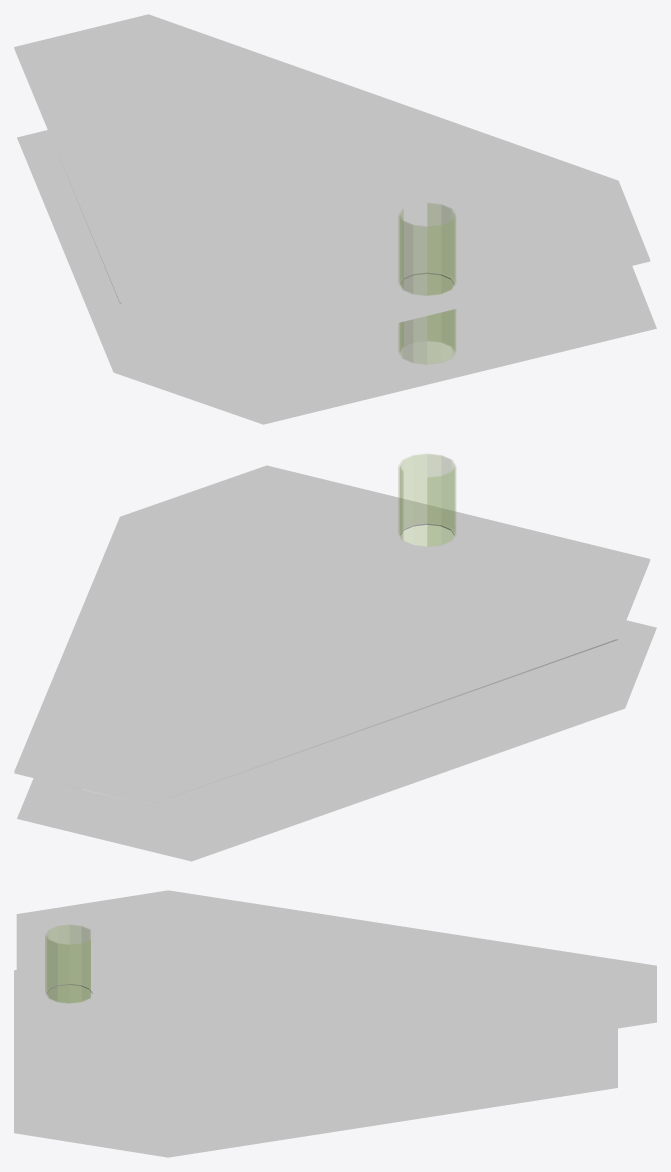
The model's file is Suelos2.fbx.
3 views of the same model, one above another, from view 1: azimuth 30°, elevation 25°; view 2: azimuth 150°, elevation 25°; view 3: azimuth 270°, elevation 25° (orthographic). The views are drawn at different scales.
Parts seen in each view (by area): view 1: Suelo2, Suelo1, Capsule, Platform; view 2: Suelo2, Suelo1, Capsule; view 3: Suelo2, Suelo1, Capsule.
Boxes of the visible parts, x1,y1,x2,y2 form: Suelo2: (14,14,650,354); Suelo1: (17,130,656,424); Capsule: (398,203,455,364); Platform: (400,341,454,364); Suelo2: (14,465,650,805); Suelo1: (17,620,656,861); Capsule: (398,454,455,546); Suelo2: (16,890,656,1097); Suelo1: (14,970,617,1157); Capsule: (45,925,90,1003).
Bounding box in the file's own units: 2340 × 611 × 3002.
